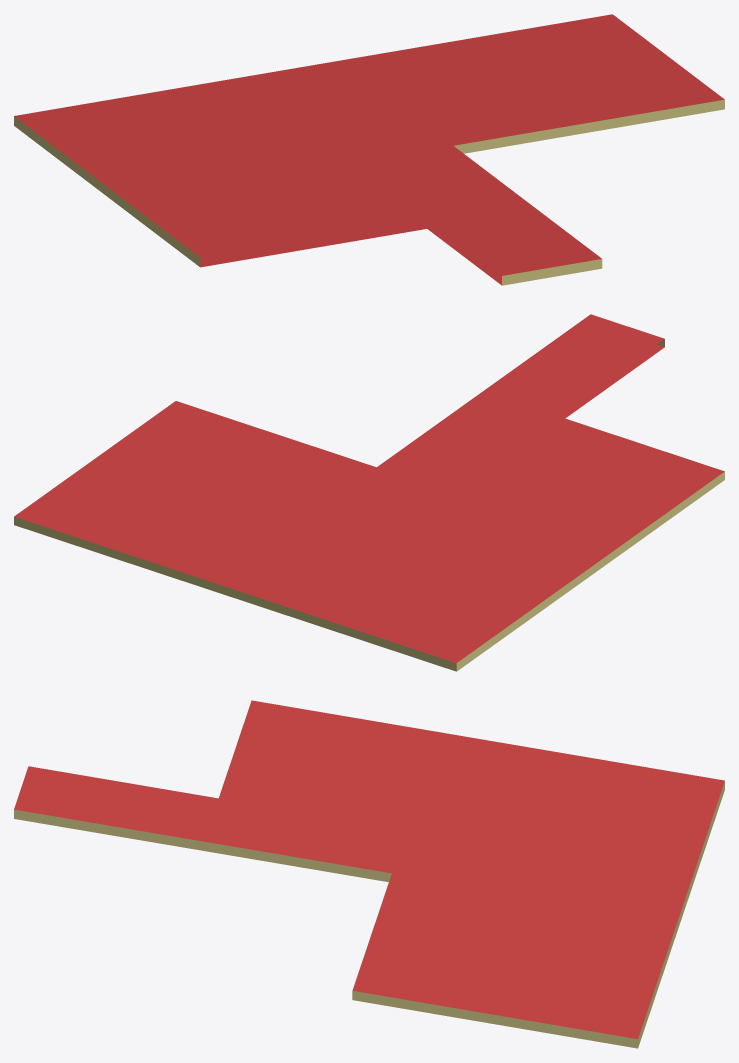
The picture shows the model from 3 angles, top to bottom: view 1: azimuth 30°, elevation 25°; view 2: azimuth 150°, elevation 25°; view 3: azimuth 270°, elevation 25°; orthographic projection. The views are drawn at different scales.
Bounding box in the file's own units: 6.56 × 6.87 × 0.874.
